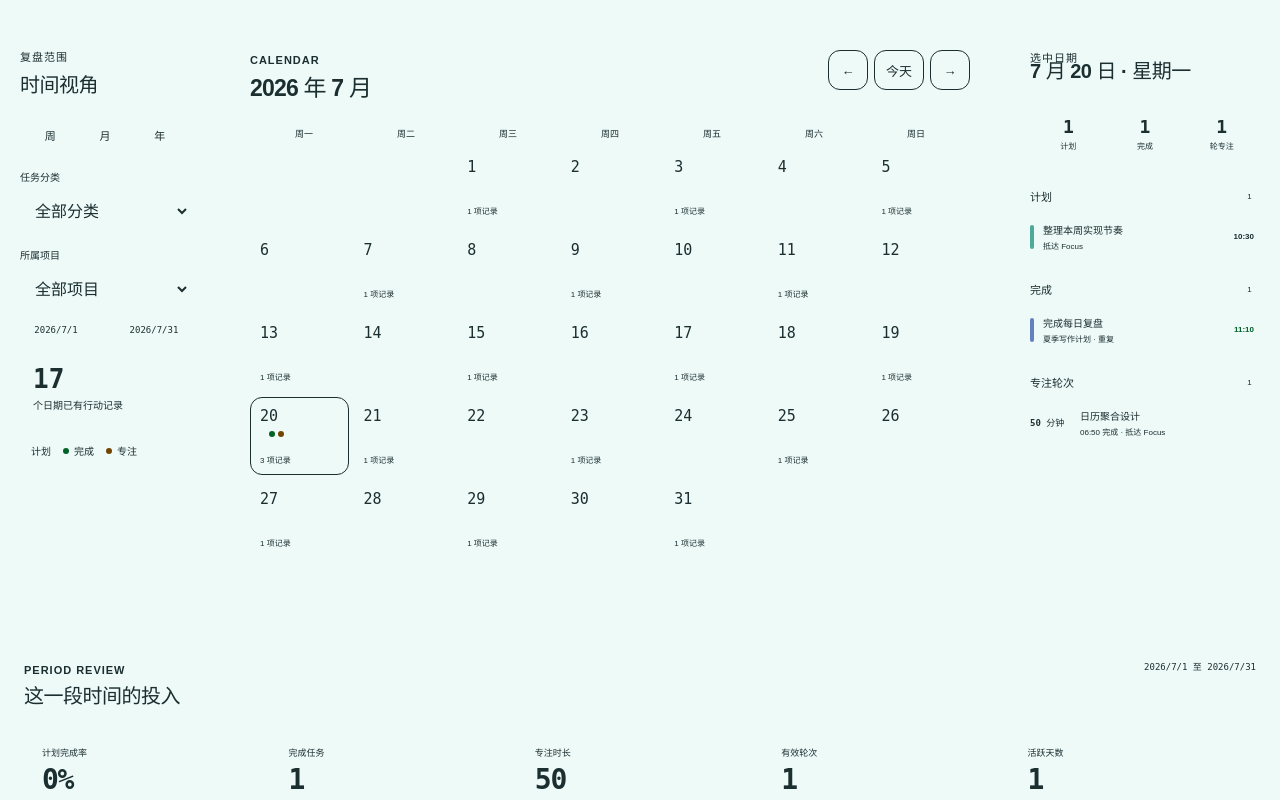
Scenario: CalendarWorkspace › filters preview activity by category and project
expect the text "整理本周实现节奏" is shown: met, box [1043,225,1123,236]
Select "学习" in the dropdown labelled "任务分类". click: (105, 211)
box: [20,191,190,231]
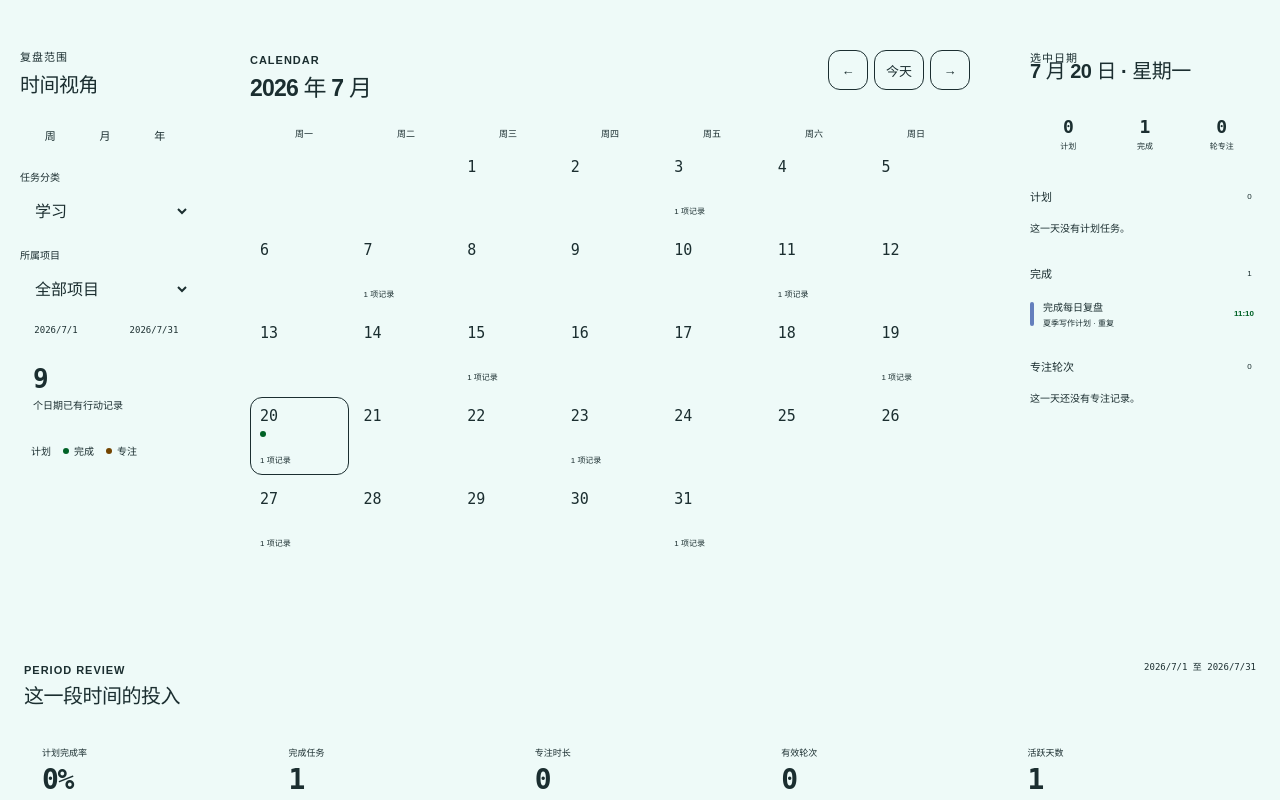
expect the text "完成每日复盘" is shown: met, box [1043,302,1103,313]
expect the text "整理本周实现节奏" is gone: met
Select "抵达 Focus" in the dropdown labelled "所属项目". click: (105, 289)
box: [20,269,190,309]
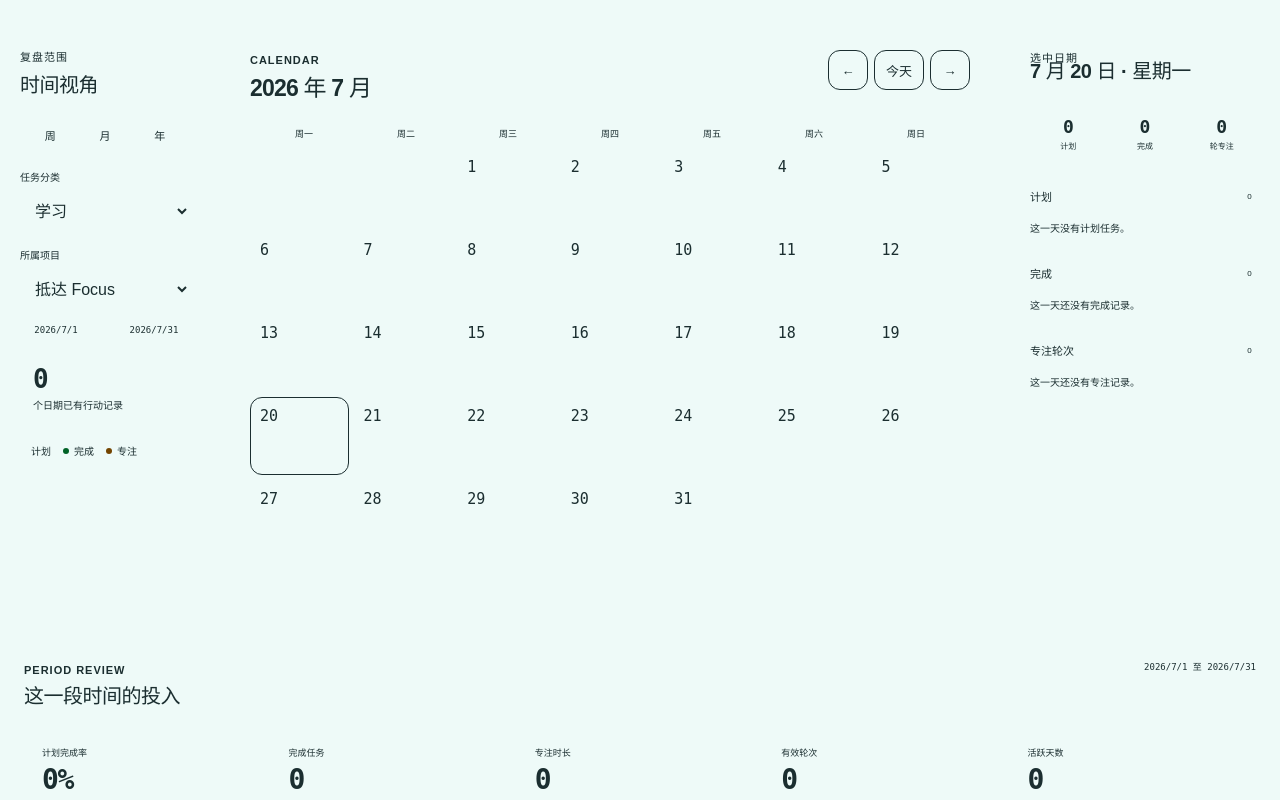
expect the text "完成每日复盘" is gone: met
expect the text "这一天还没有完成记录。" is shown: met, box [1030,300,1140,311]
